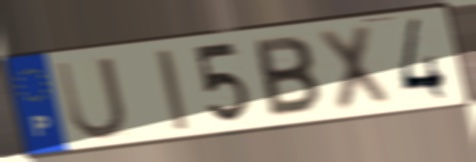4: (394, 15, 453, 104)
5: (192, 38, 253, 127)
B: (251, 34, 324, 121)
I: (152, 46, 193, 134)
U: (53, 53, 130, 144)
X: (314, 21, 395, 115)
